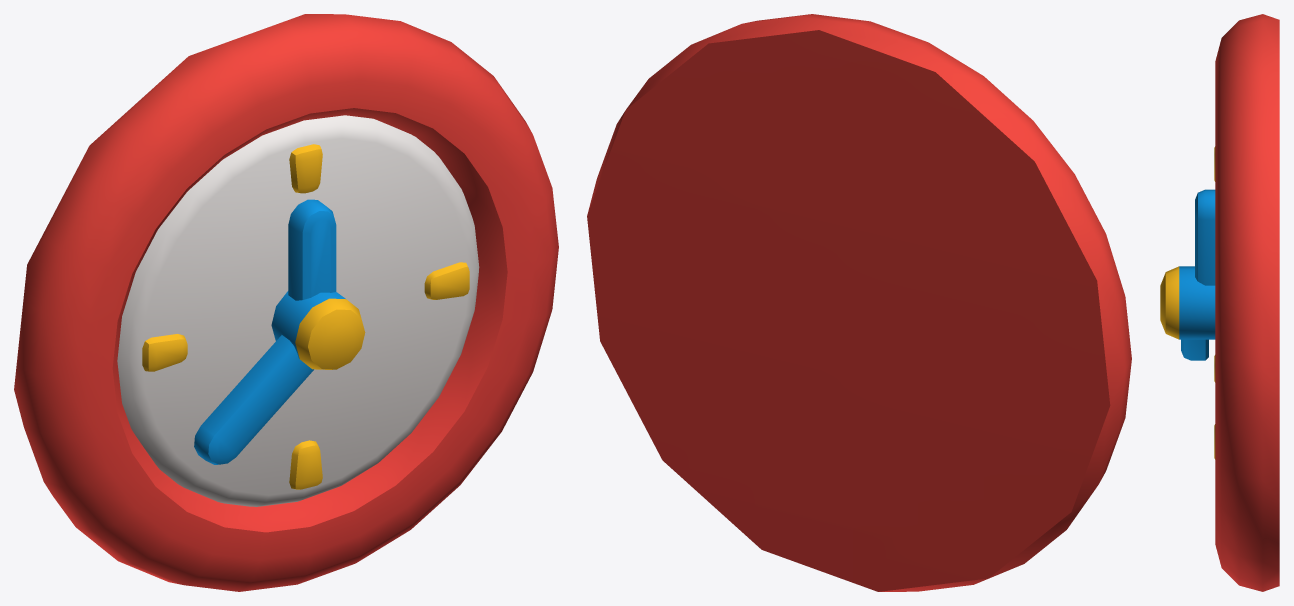
Rendered from Clock_02.glb.
The picture shows the model from 3 angles, left to right: view 1: azimuth 30°, elevation 25°; view 2: azimuth 150°, elevation 25°; view 3: azimuth 270°, elevation 25°; orthographic projection. The views are drawn at different scales.
Parts seen in each view (by area): view 1: Clock_02; view 2: Clock_02; view 3: Clock_02.
Part boxes in pixels (box(x1,y1,x2,y2)): Clock_02: box(14, 14, 558, 591); Clock_02: box(587, 14, 1131, 591); Clock_02: box(1160, 14, 1279, 591).
Bounding box in the file's own units: 0.486 × 0.486 × 0.1006.
Materials: 1 (1 with a texture image).
